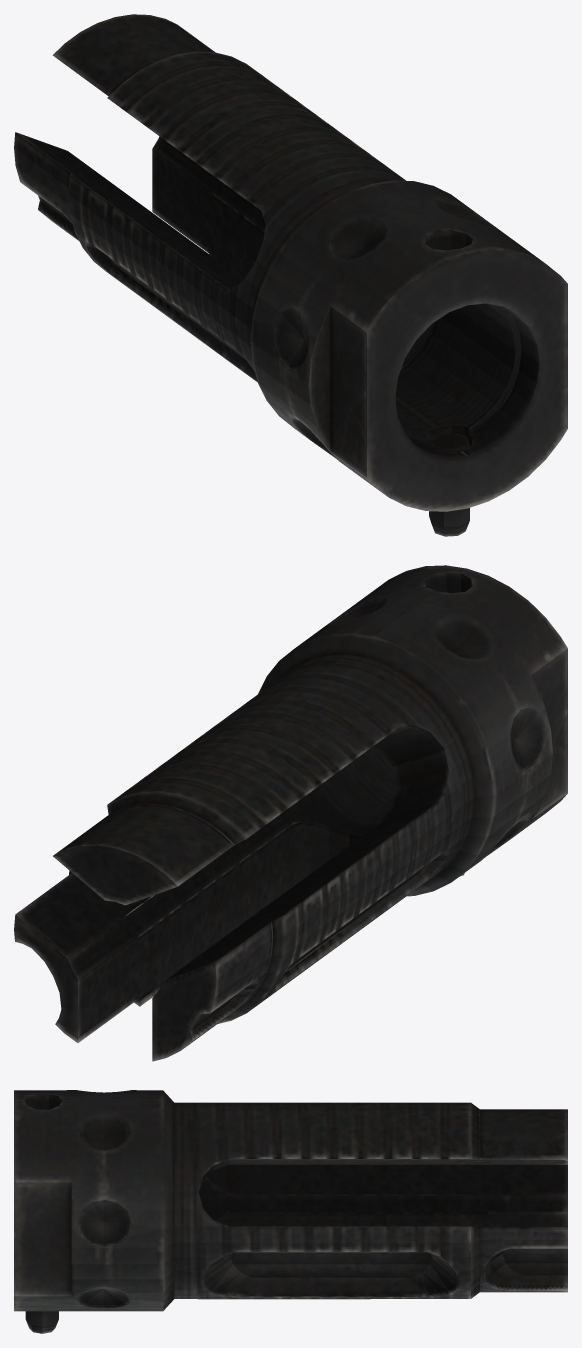
3 renders of one model, top to bottom at view 1: azimuth 30°, elevation 25°; view 2: azimuth 150°, elevation 25°; view 3: azimuth 270°, elevation 25°, orthographic. The views are drawn at different scales.
Visible parts, largest first — view 1: TW_626667e87379c44d557b7550_PZ_Import; view 2: TW_626667e87379c44d557b7550_PZ_Import; view 3: TW_626667e87379c44d557b7550_PZ_Import.
Part boxes in pixels (x1,y1,x2,y2): TW_626667e87379c44d557b7550_PZ_Import: (14,14,567,536); TW_626667e87379c44d557b7550_PZ_Import: (14,565,567,1061); TW_626667e87379c44d557b7550_PZ_Import: (14,1090,567,1333).
Bounding box in the file's own units: 0.0123 × 0.0307 × 0.0139.
Materials: 1 (1 with a texture image).
